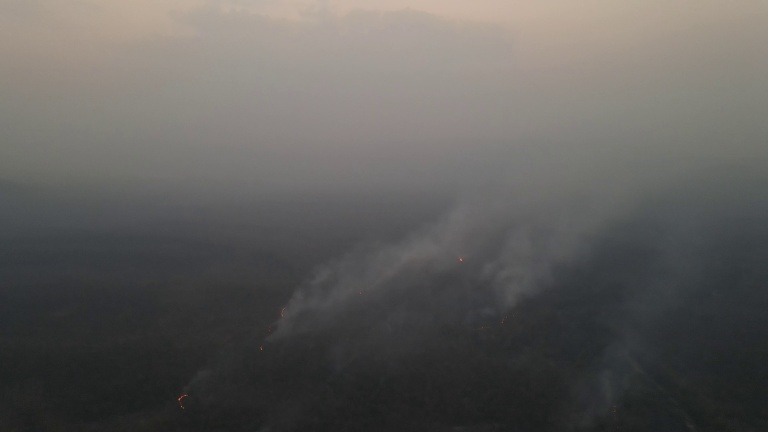fire: (256, 298, 297, 355), (472, 296, 525, 335), (173, 391, 195, 411), (456, 254, 467, 267)
smoke: (267, 138, 604, 349), (579, 268, 675, 429), (185, 362, 222, 403), (605, 395, 623, 414)
